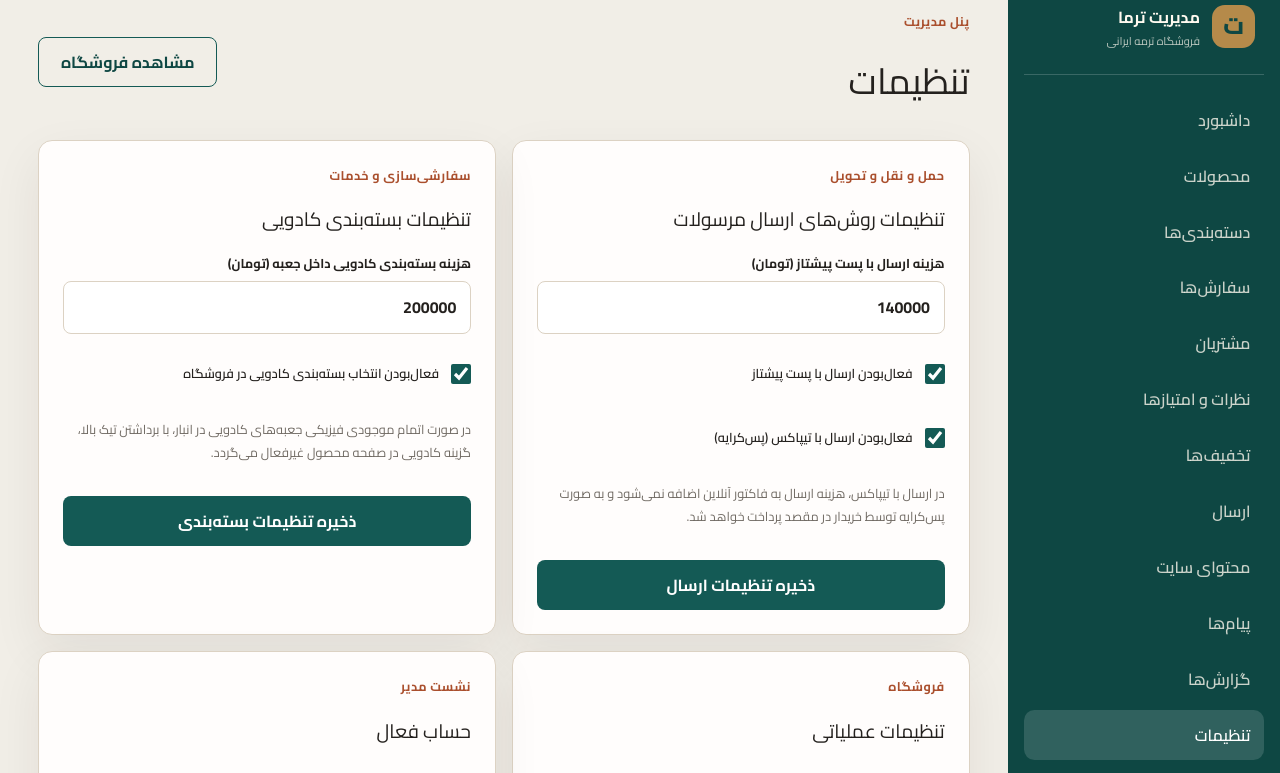
Test: AdminSettingsPage › renders shipping settings and allows updating Pishtaz fee and Tipax status
Expected: the checkbox labelled "فعال‌بودن ارسال با پست پیشتاز" is checked, top-left (925, 350), bottom-right (945, 398)
Expected: the checkbox labelled "فعال‌بودن ارسال با تیپاکس (پس‌کرایه)" is checked, top-left (925, 414), bottom-right (945, 462)
Note: Update price to 160000
Replace the text in the number field labelled "هزینه ارسال با پست پیشتاز (تومان)" with "160000" at (741, 307), box top-left (537, 281), bottom-right (945, 334)
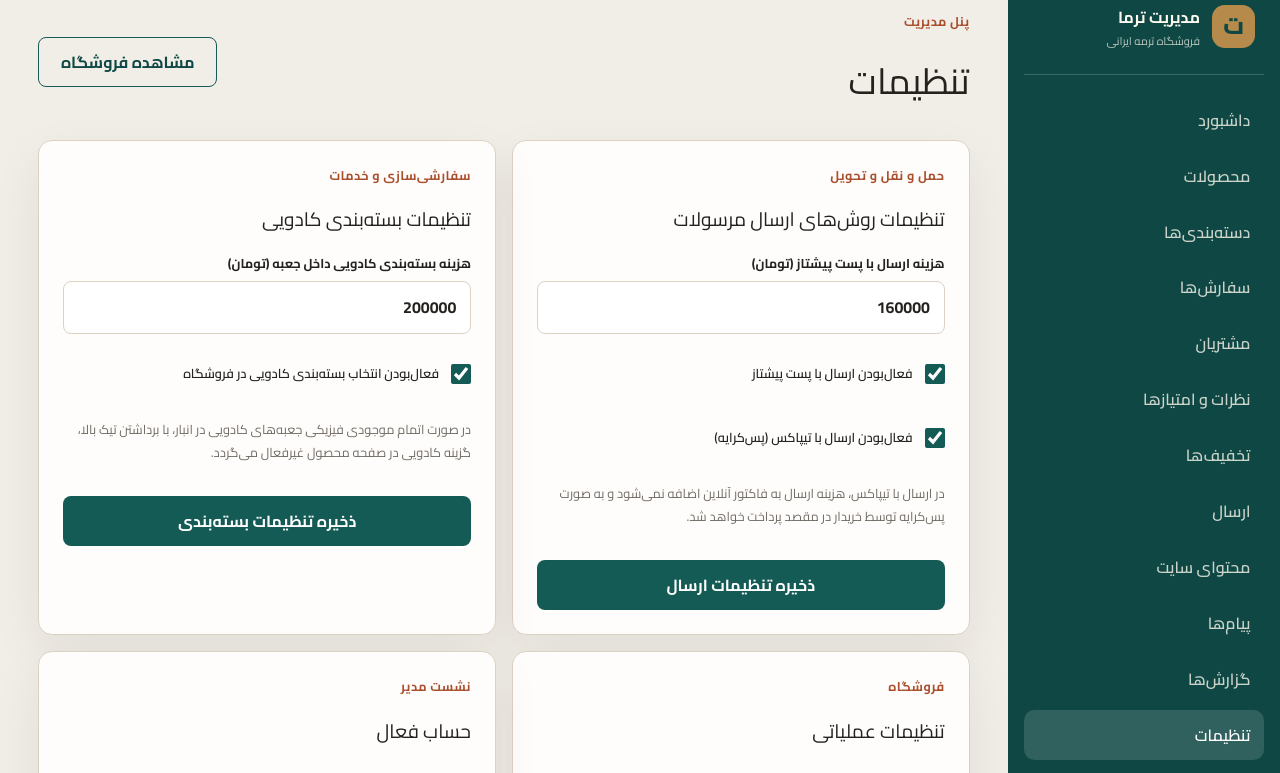
Note: Click submit
Click the button "ذخیره تنظیمات ارسال".
click(741, 585)  # box top-left (537, 560), bottom-right (945, 610)
(page scrolled)
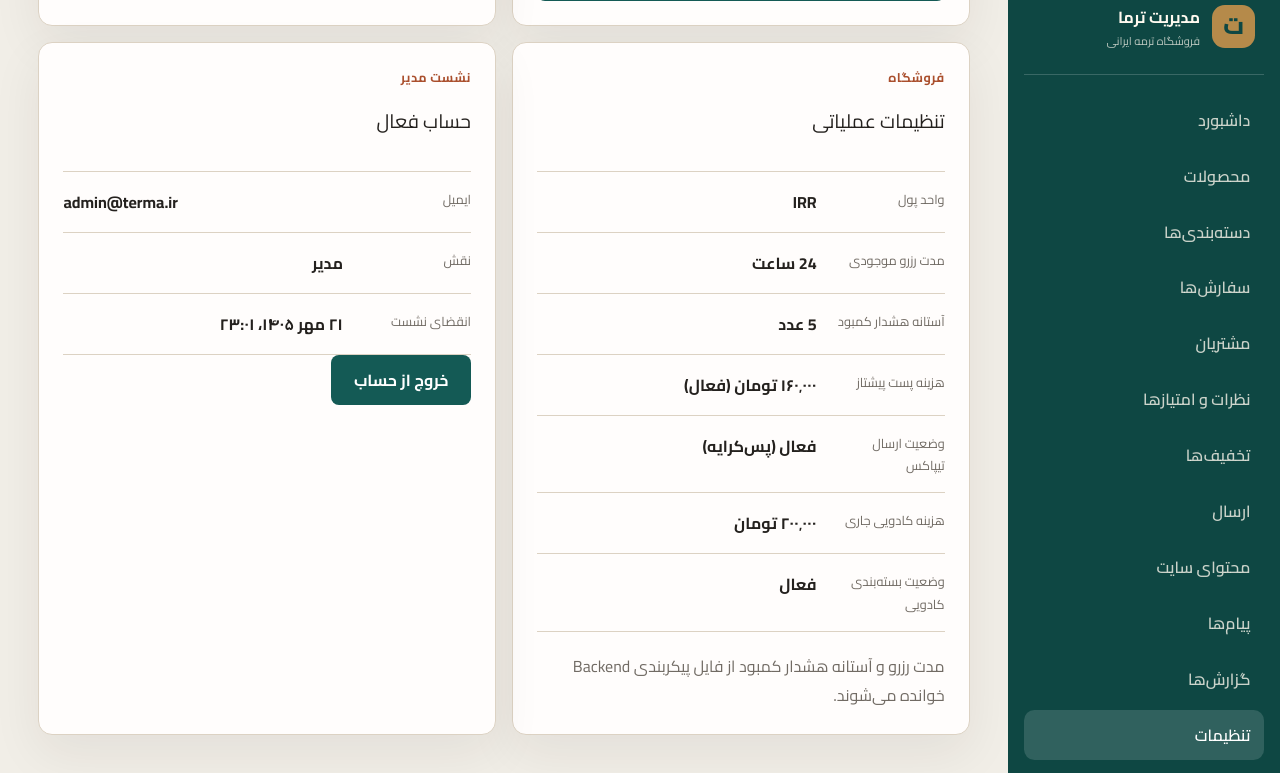
Now the text "۱۶۰٬۰۰۰ تومان (فعال)" is shown, box top-left (684, 370), bottom-right (817, 400)
